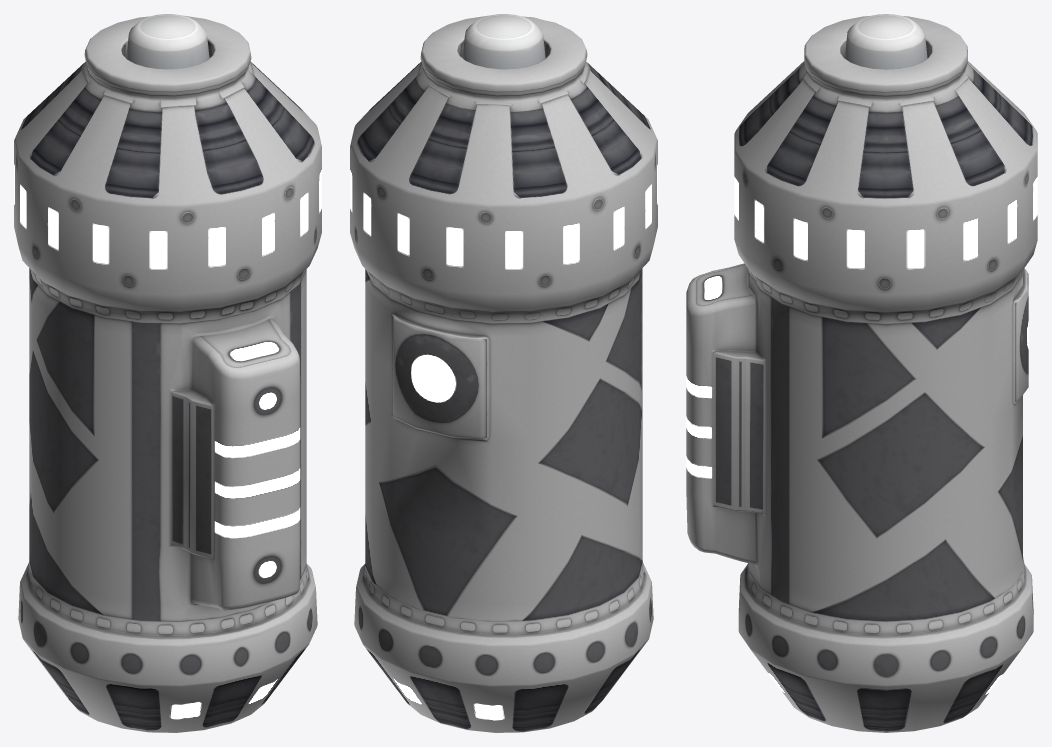
File: SciFiSmokeGrenade01_1.FBX
The picture shows the model from 3 angles, left to right: view 1: azimuth 30°, elevation 25°; view 2: azimuth 150°, elevation 25°; view 3: azimuth 270°, elevation 25°; orthographic projection.
Parts seen in each view (by area): view 1: SciFiSmokeGrenade01_1; view 2: SciFiSmokeGrenade01_1; view 3: SciFiSmokeGrenade01_1.
Part boxes in pixels (box(x1,y1,x2,y2)): SciFiSmokeGrenade01_1: box(14, 14, 321, 732); SciFiSmokeGrenade01_1: box(350, 14, 657, 732); SciFiSmokeGrenade01_1: box(686, 14, 1037, 732).
Size of what is drawn, in the model's own units: 0.0779 by 0.1854 by 0.089.
